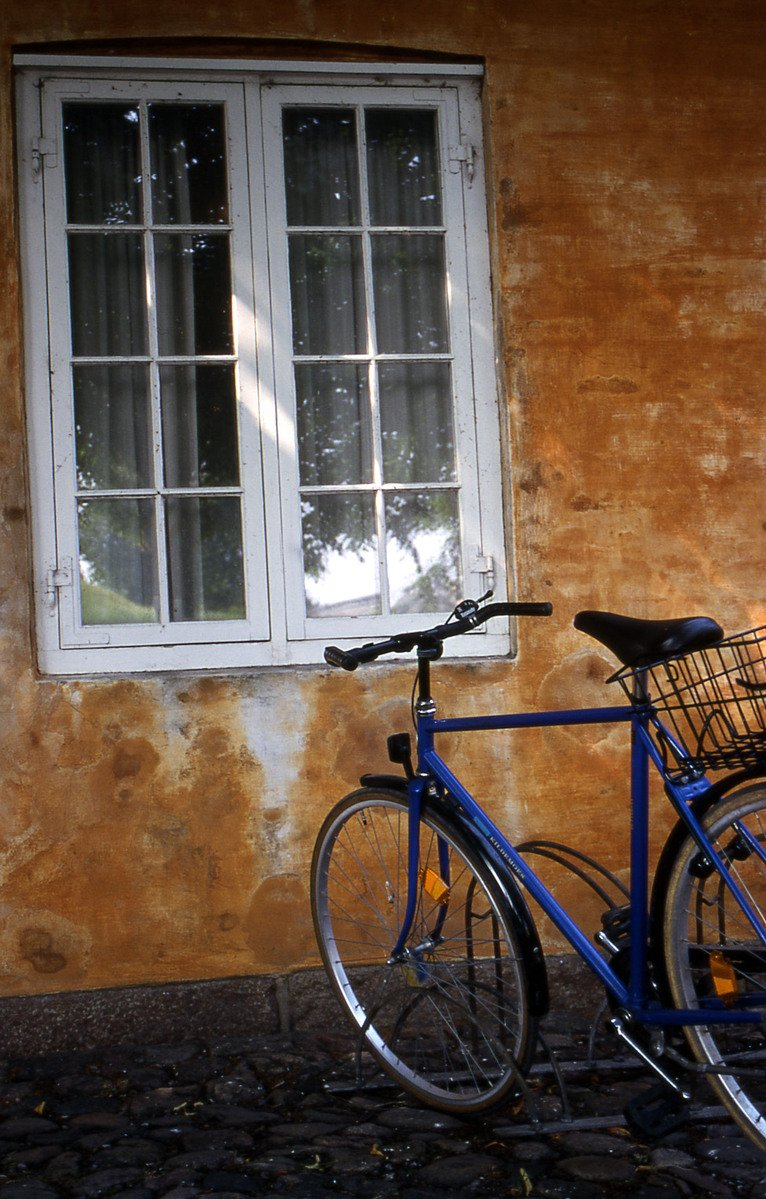Bicycle: (138, 401, 766, 1181)
